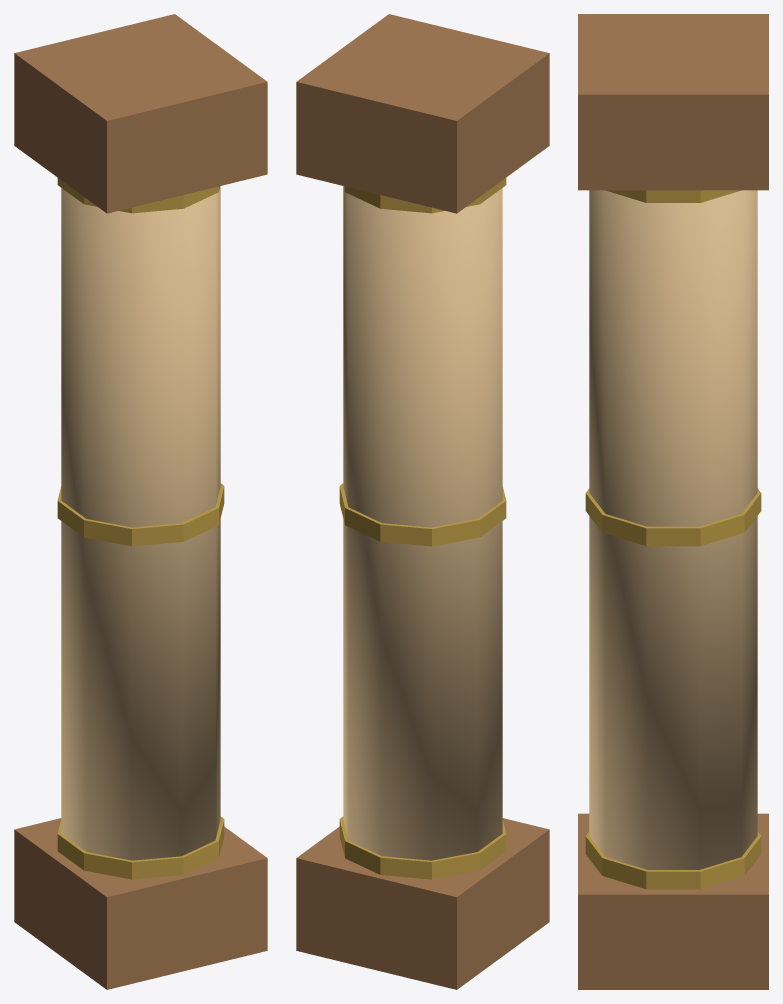
The model's file is columna_esquina.glb.
3 renders of one model, left to right at view 1: azimuth 30°, elevation 25°; view 2: azimuth 150°, elevation 25°; view 3: azimuth 270°, elevation 25°, orthographic. The views are drawn at different scales.
Parts seen in each view (by area): view 1: columna_esquina; view 2: columna_esquina; view 3: columna_esquina.
Part boxes in pixels (bbox=[...]): columna_esquina: bbox=[14, 14, 267, 989]; columna_esquina: bbox=[296, 14, 549, 989]; columna_esquina: bbox=[578, 14, 768, 989].
Bounding box in the file's own units: 0.58 × 3 × 0.58.
